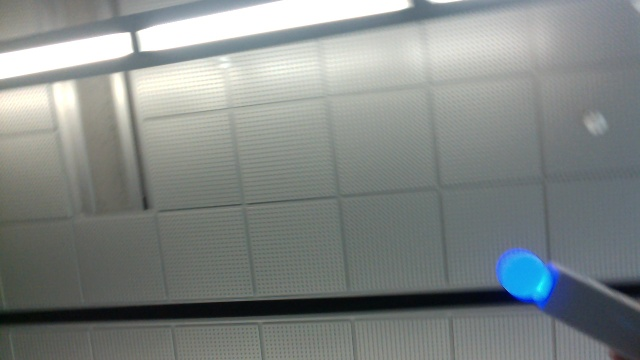wand: (498, 249, 549, 303)
